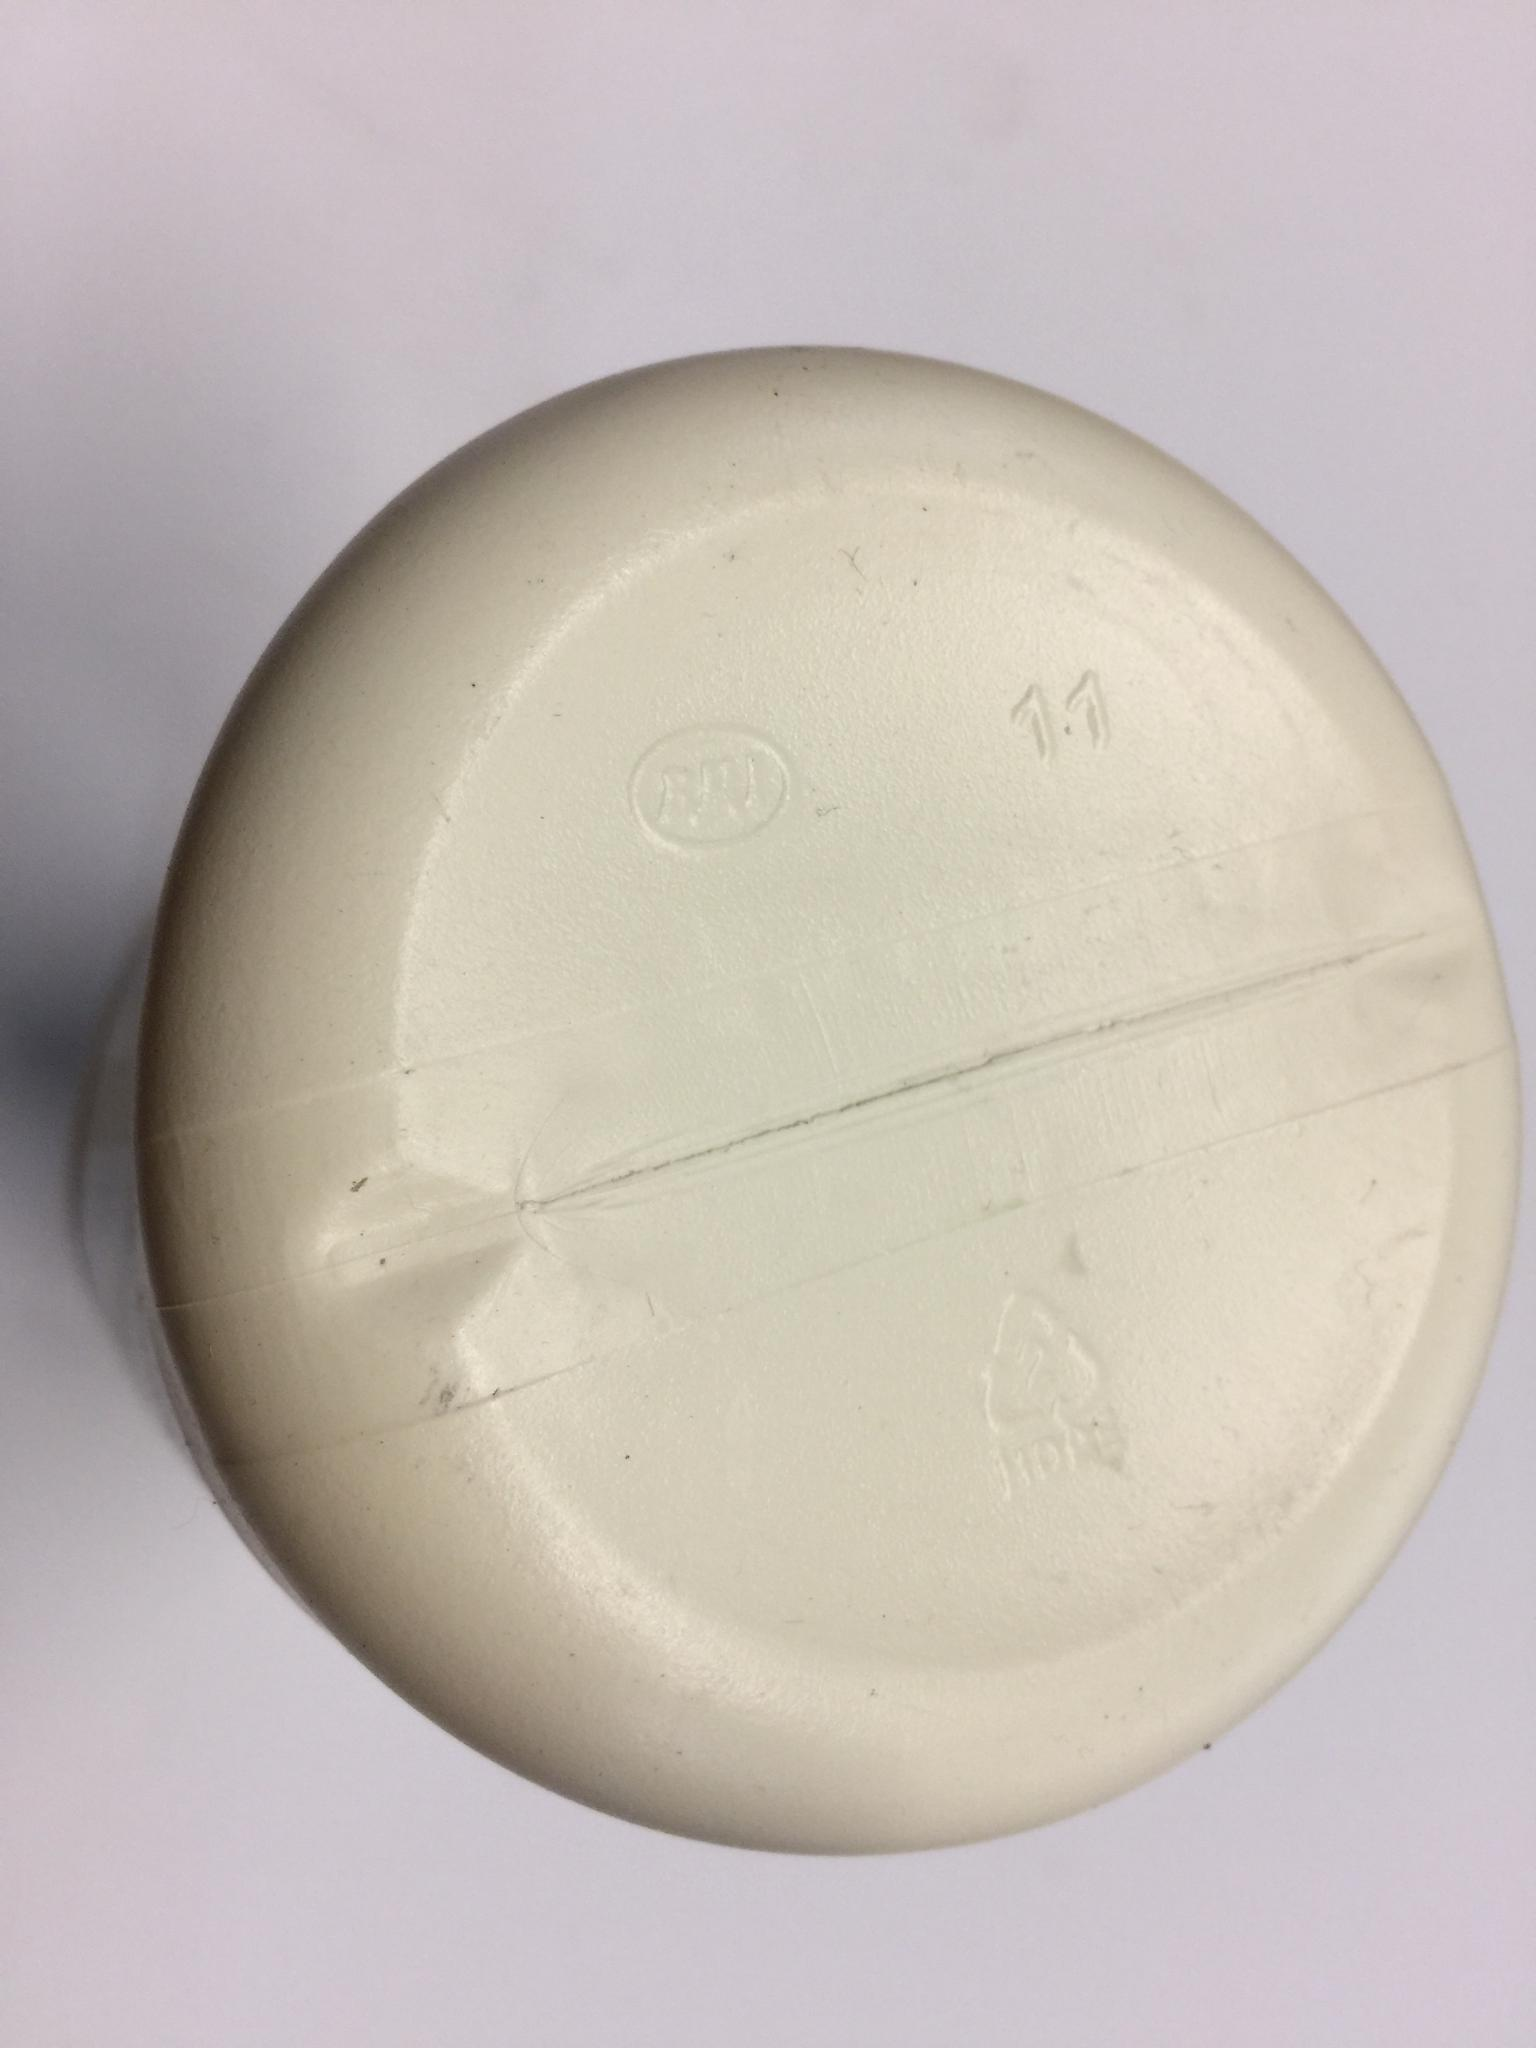Plastic: (40, 327, 1536, 1872)
